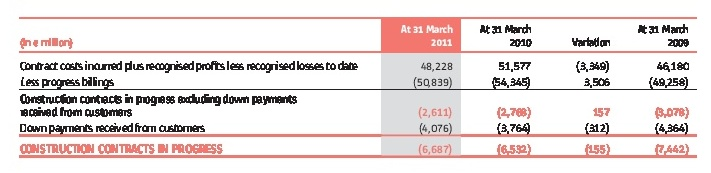table: (0, 0, 711, 173)
